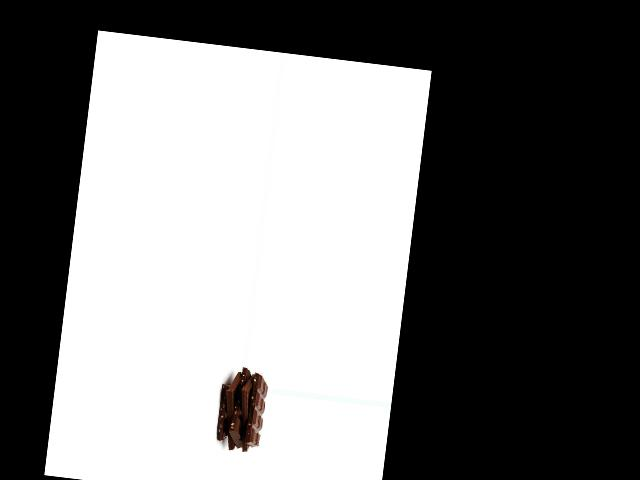chocolate: (210, 369, 250, 449)
